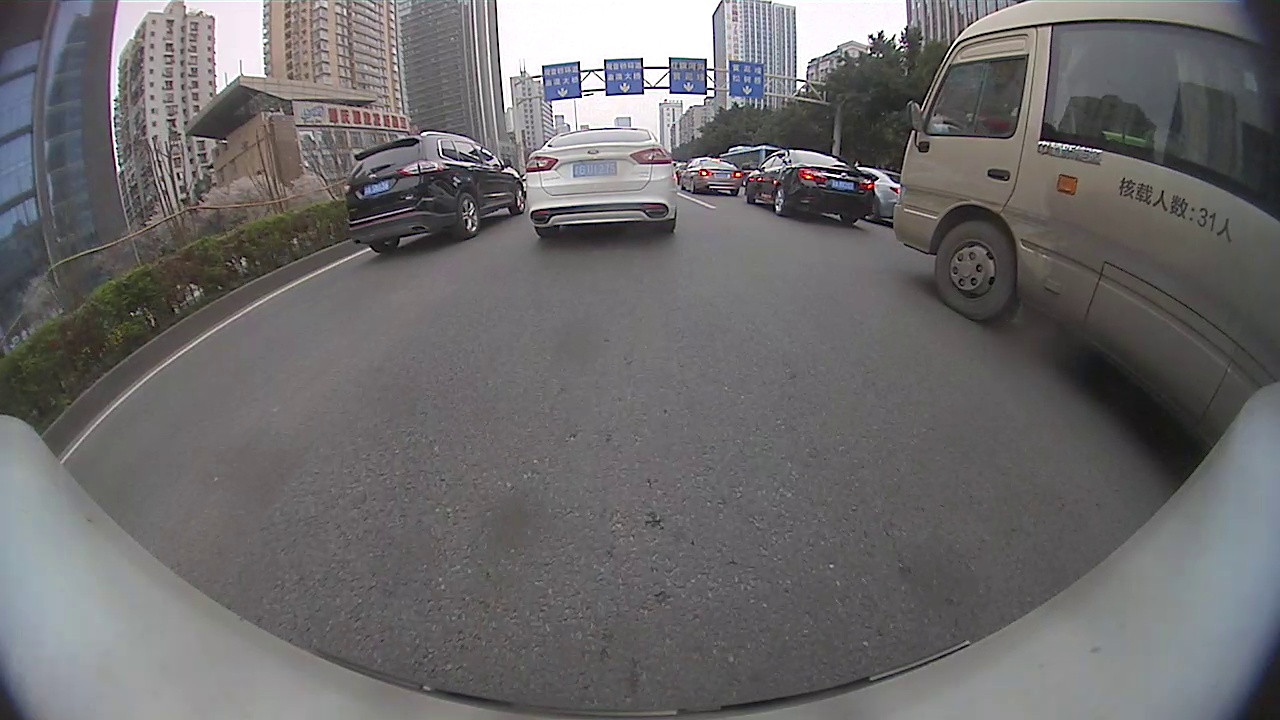bus: (895, 1, 1279, 446)
car: (345, 130, 526, 254), (527, 129, 680, 238), (745, 149, 873, 225), (681, 158, 744, 197), (857, 166, 901, 221)
front: (934, 219, 1023, 321), (508, 181, 527, 216)
rear: (455, 192, 480, 238), (771, 183, 790, 219)
